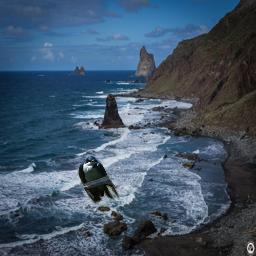Swallow: (77, 154, 120, 206)
